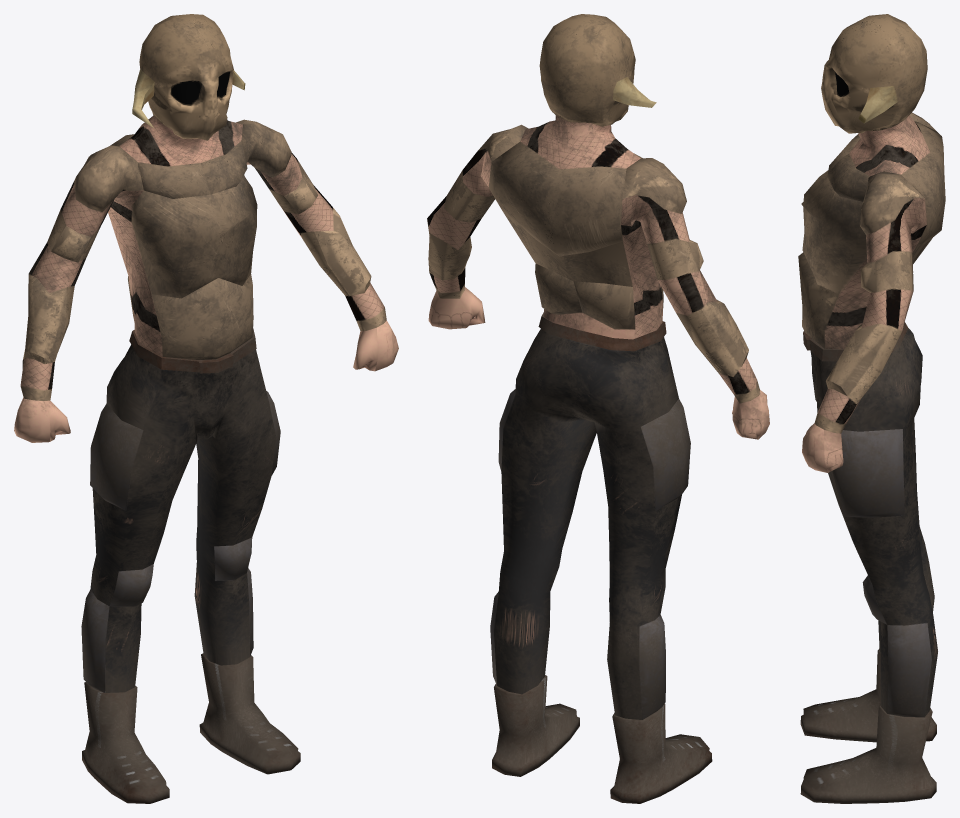
The model's file is Anim_idle_npc1.0030.obj.
The picture shows the model from 3 angles, left to right: view 1: azimuth 30°, elevation 25°; view 2: azimuth 150°, elevation 25°; view 3: azimuth 270°, elevation 25°; orthographic projection.
Parts seen in each view (by area): view 1: NPC2; view 2: NPC2; view 3: NPC2.
Part boxes in pixels (x1,y1,x2,y2): NPC2: (14, 14, 398, 803); NPC2: (427, 14, 769, 803); NPC2: (798, 14, 945, 803).
Size of the model in its own units: 4.85 by 9.66 by 1.73.
